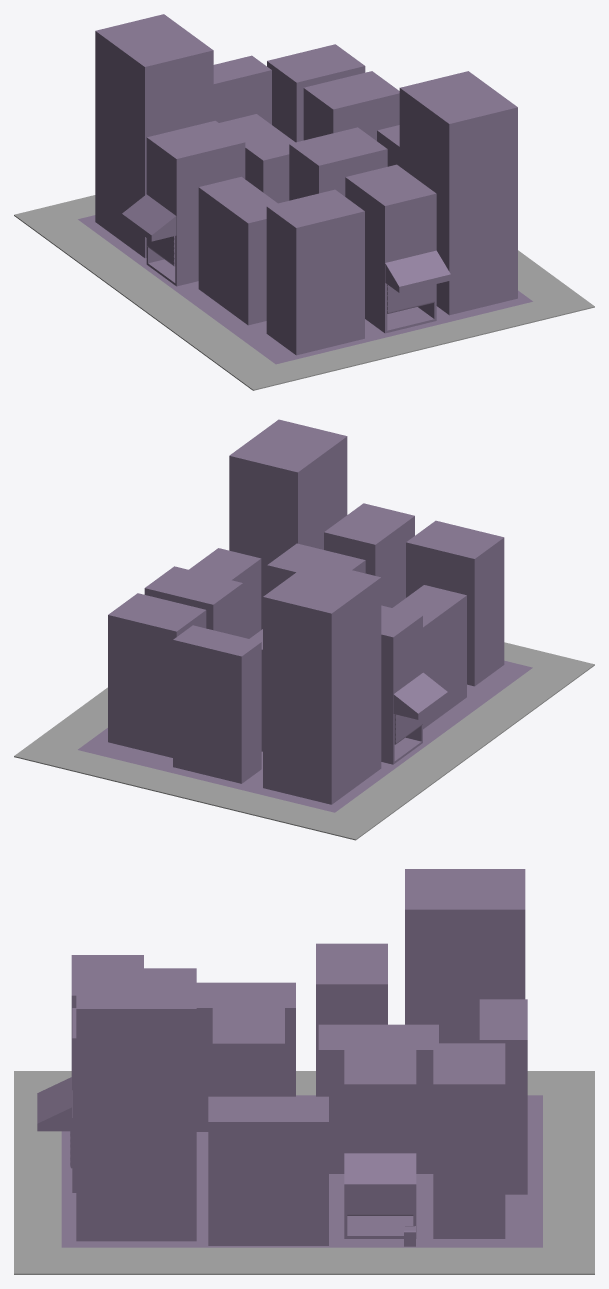
The model's file is slums_1mod.fbx.
3 renders of one model, top to bottom at view 1: azimuth 30°, elevation 25°; view 2: azimuth 150°, elevation 25°; view 3: azimuth 270°, elevation 25°, orthographic. The views are drawn at different scales.
Parts seen in each view (by area): view 1: slums_1mod10_small_building1; view 2: slums_1mod10_small_building1; view 3: slums_1mod10_small_building1.
Boxes of the visible parts, x1,y1,x2,y2 form: slums_1mod10_small_building1: [14, 14, 594, 390]; slums_1mod10_small_building1: [14, 419, 594, 840]; slums_1mod10_small_building1: [14, 869, 594, 1274].
Size of the model in its own units: 39.81 by 21.58 by 48.26.
